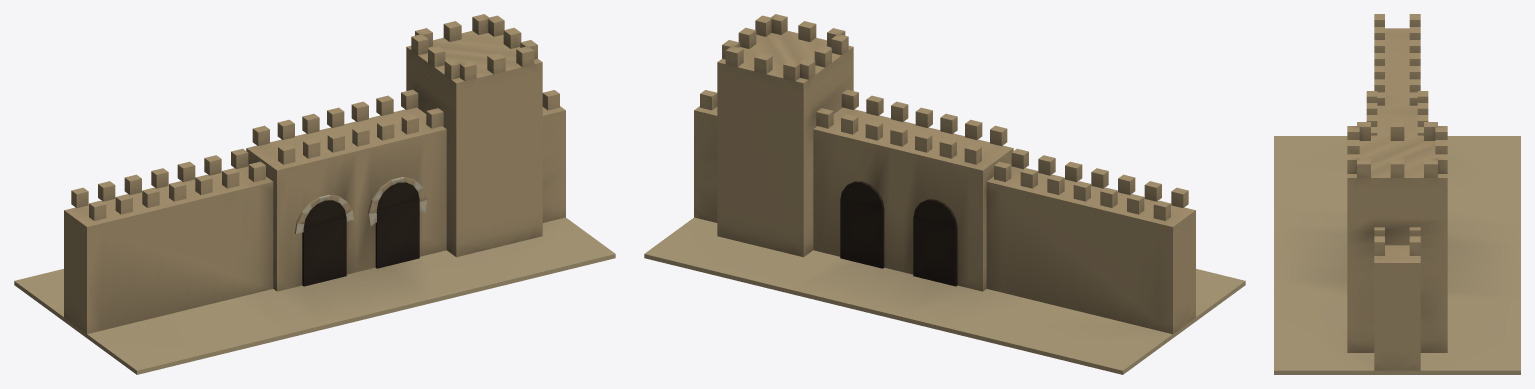
File: puerta-sevilla.glb
3 views of the same model, side by side, from view 1: azimuth 30°, elevation 25°; view 2: azimuth 150°, elevation 25°; view 3: azimuth 270°, elevation 25° (orthographic).
Visible parts, largest first — view 1: p0_wall, p1_gate; view 2: p0_wall, p1_gate; view 3: p0_wall, p1_gate.
Boxes of the visible parts, bbox=[...] form: p0_wall: bbox=[14, 90, 615, 374]; p1_gate: bbox=[246, 14, 542, 291]; p0_wall: bbox=[644, 90, 1245, 374]; p1_gate: bbox=[717, 14, 1013, 291]; p0_wall: bbox=[1274, 14, 1520, 374]; p1_gate: bbox=[1347, 91, 1447, 352].
Bounding box in the file's own units: 36 × 13.79 × 16.
